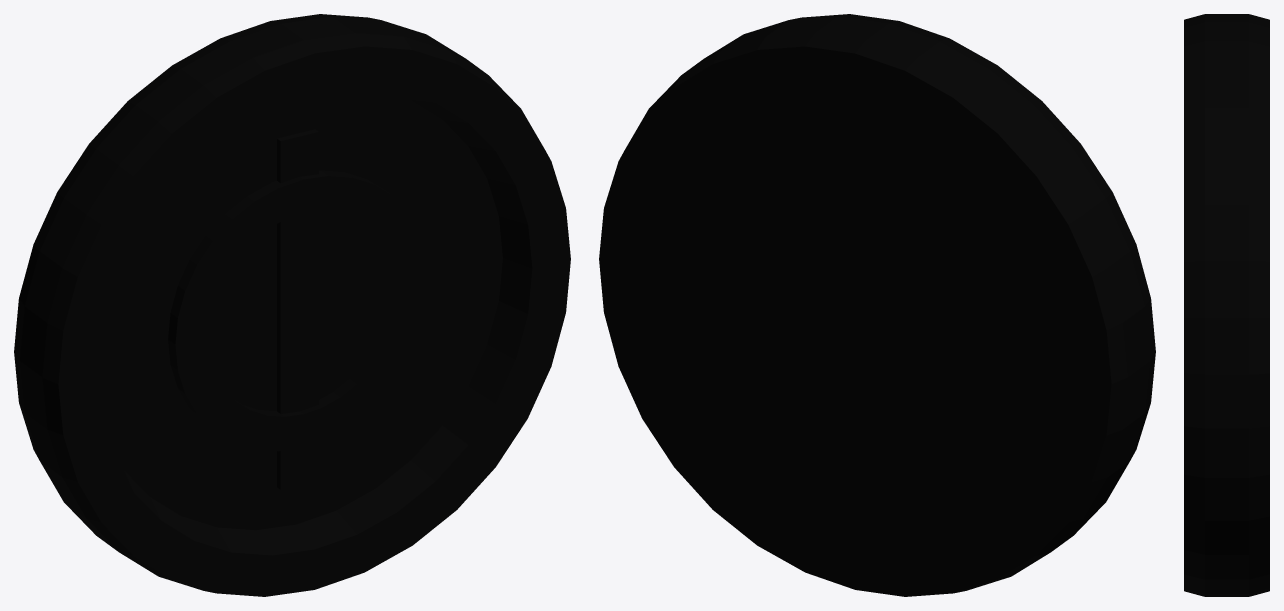
File: Coin.fbx
3 views of the same model, side by side, from view 1: azimuth 30°, elevation 25°; view 2: azimuth 150°, elevation 25°; view 3: azimuth 270°, elevation 25° (orthographic). The views are drawn at different scales.
Parts seen in each view (by area): view 1: Circle; view 2: Circle; view 3: Circle.
Boxes of the visible parts, box(x1,y1,x2,y2) form: Circle: box(14, 14, 570, 596); Circle: box(599, 14, 1155, 596); Circle: box(1184, 14, 1269, 596).
Bounding box in the file's own units: 408 × 408 × 60.
